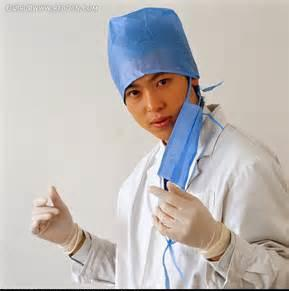WRONG: (120, 71, 196, 147)
